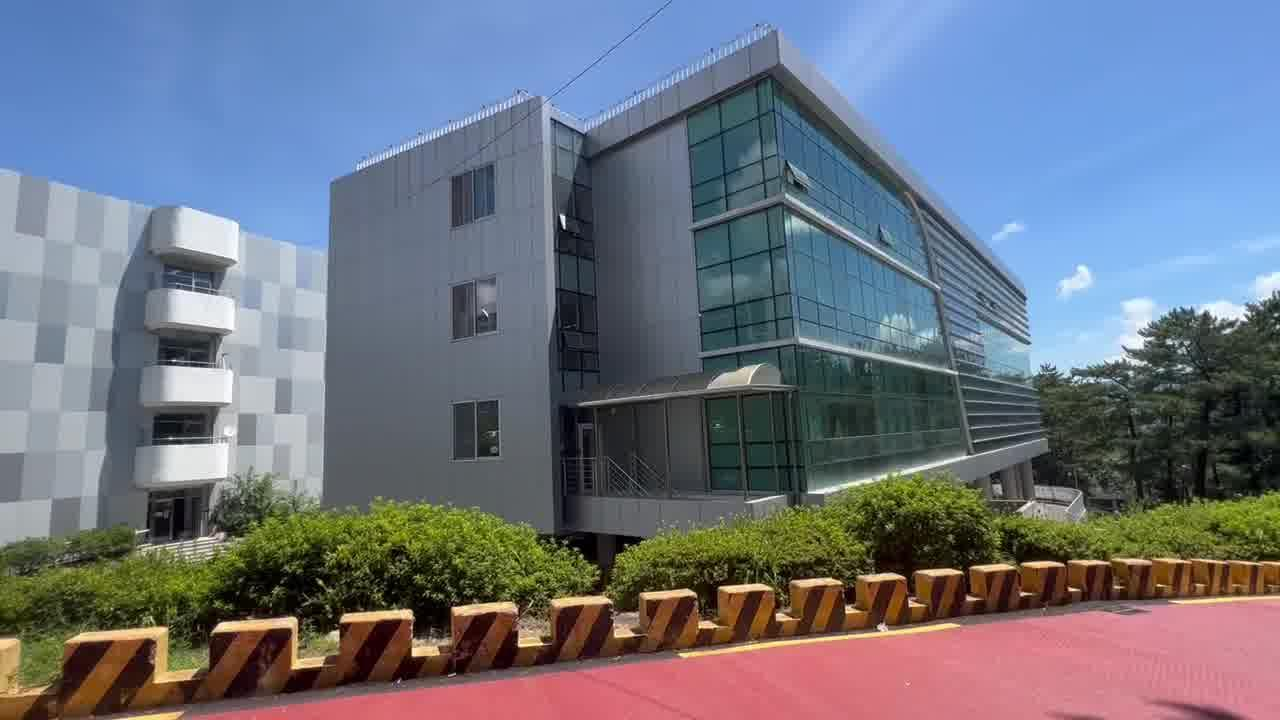building: (311, 16, 1041, 501)
